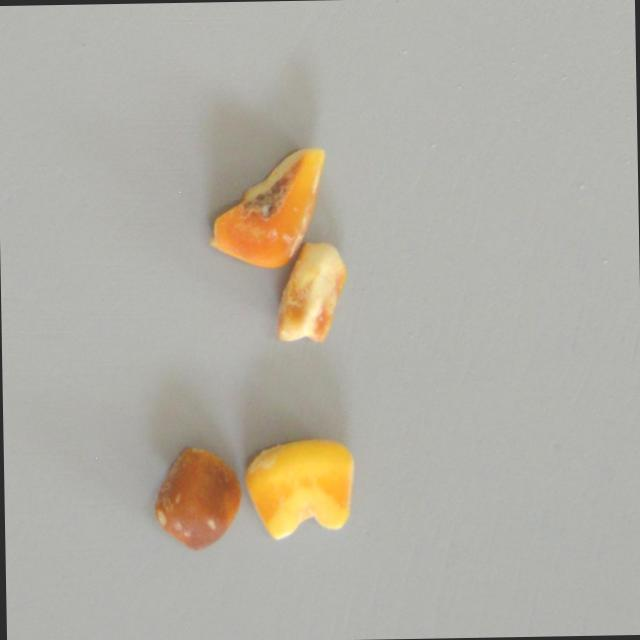dañado: (206, 143, 329, 268), (152, 443, 244, 550), (273, 241, 349, 344)
pelicula: (242, 435, 356, 544)
